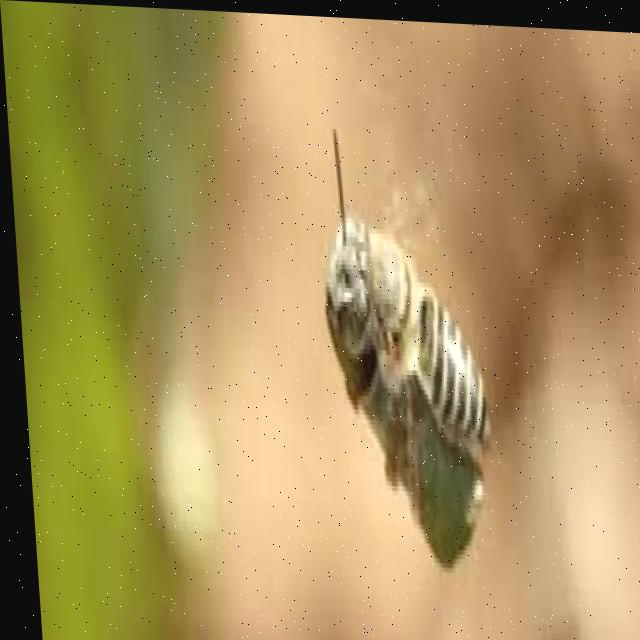Seladonia: (298, 143, 503, 557)
